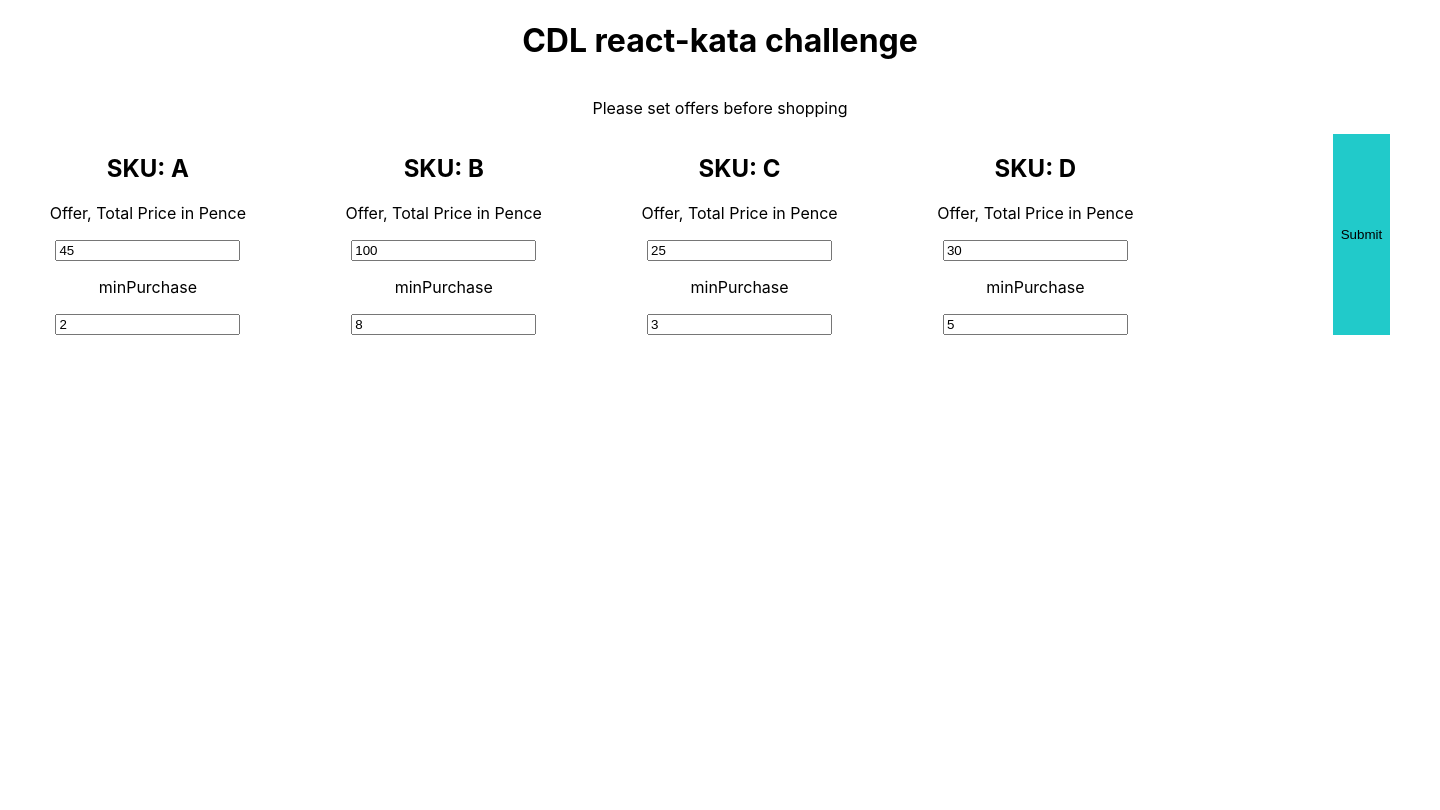
<App> › should NOT render an offer if minPurchase quantity is set to 0
Note: ** Act **
Replace the text in the number field named "A minimum purchase input" with "0" at (148, 324), box [55,314,240,335]
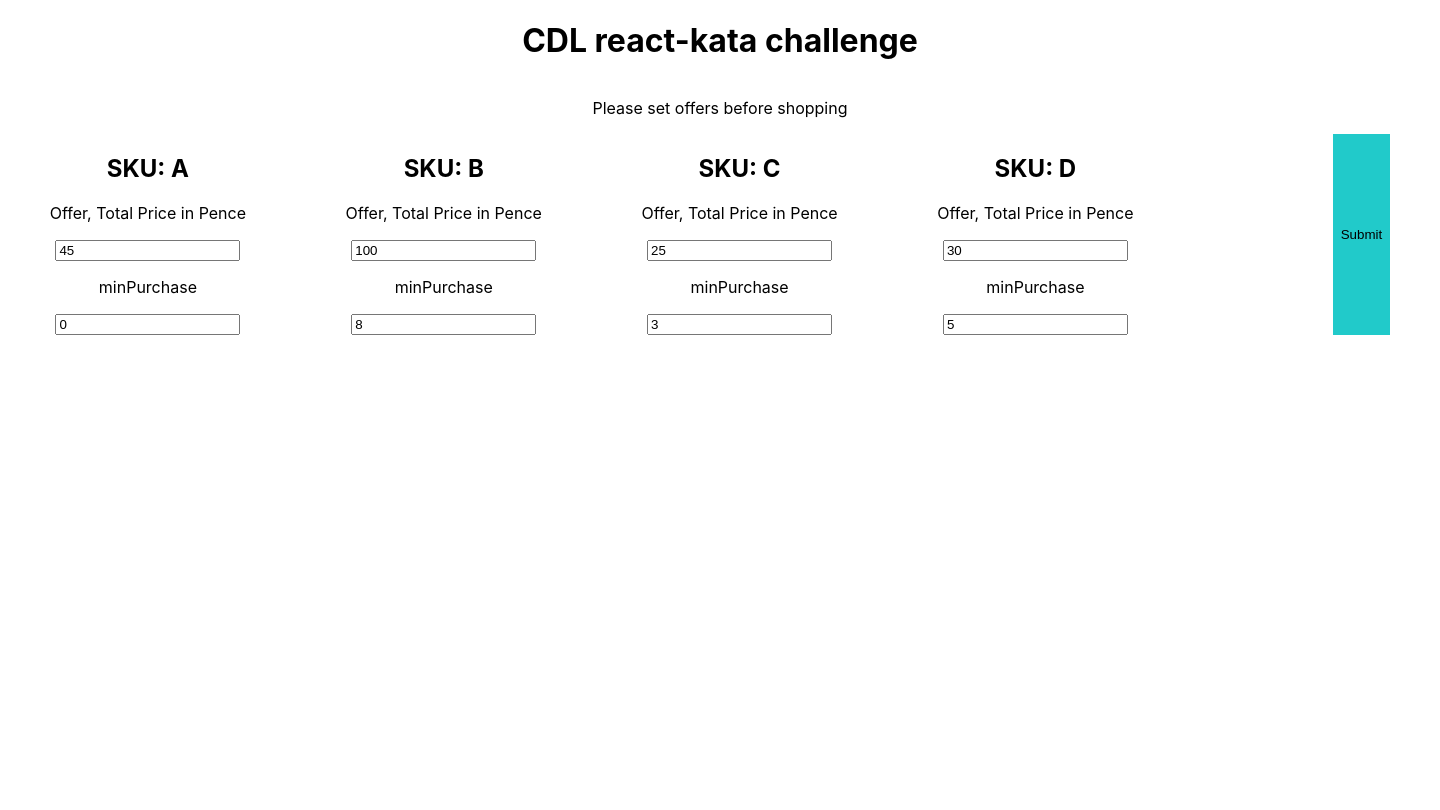
Click the button at (1361, 234), box [1333,134,1390,335]
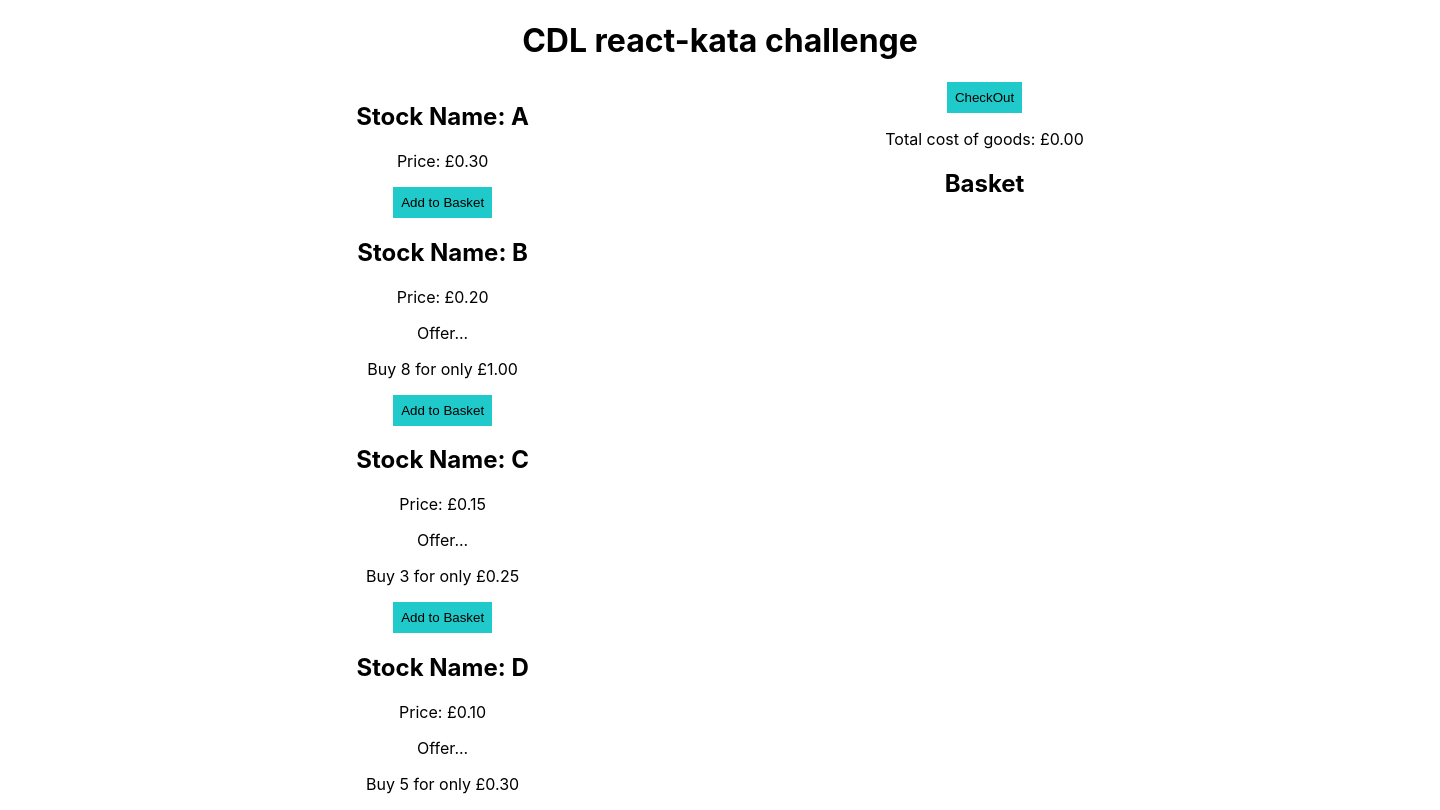
Expected: the field labelled "A Offer" is gone
